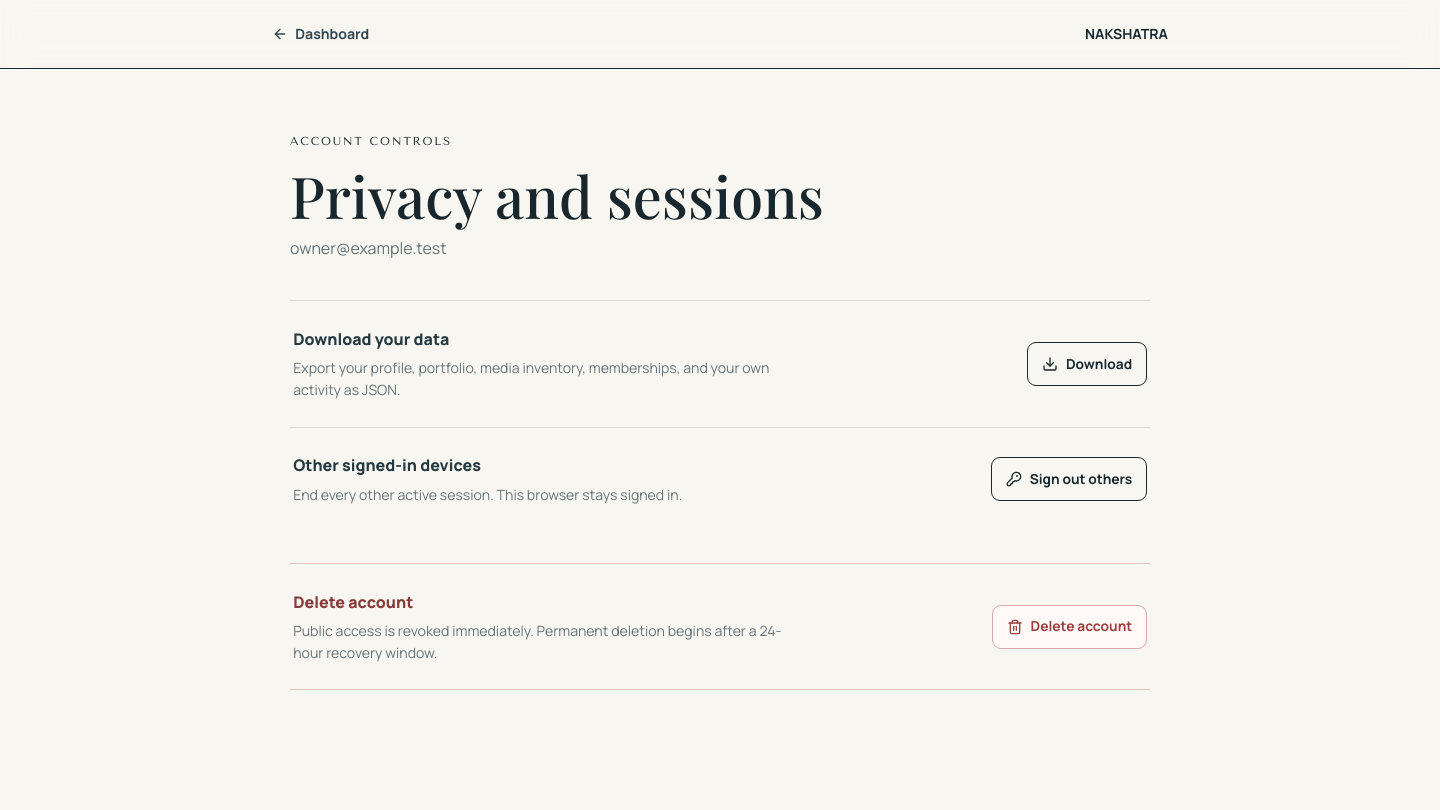
Test: account privacy screen › starts a fresh email sign-in before enabling deletion
Click the button "Delete account" at (1069, 626), box [992,604,1147,648]
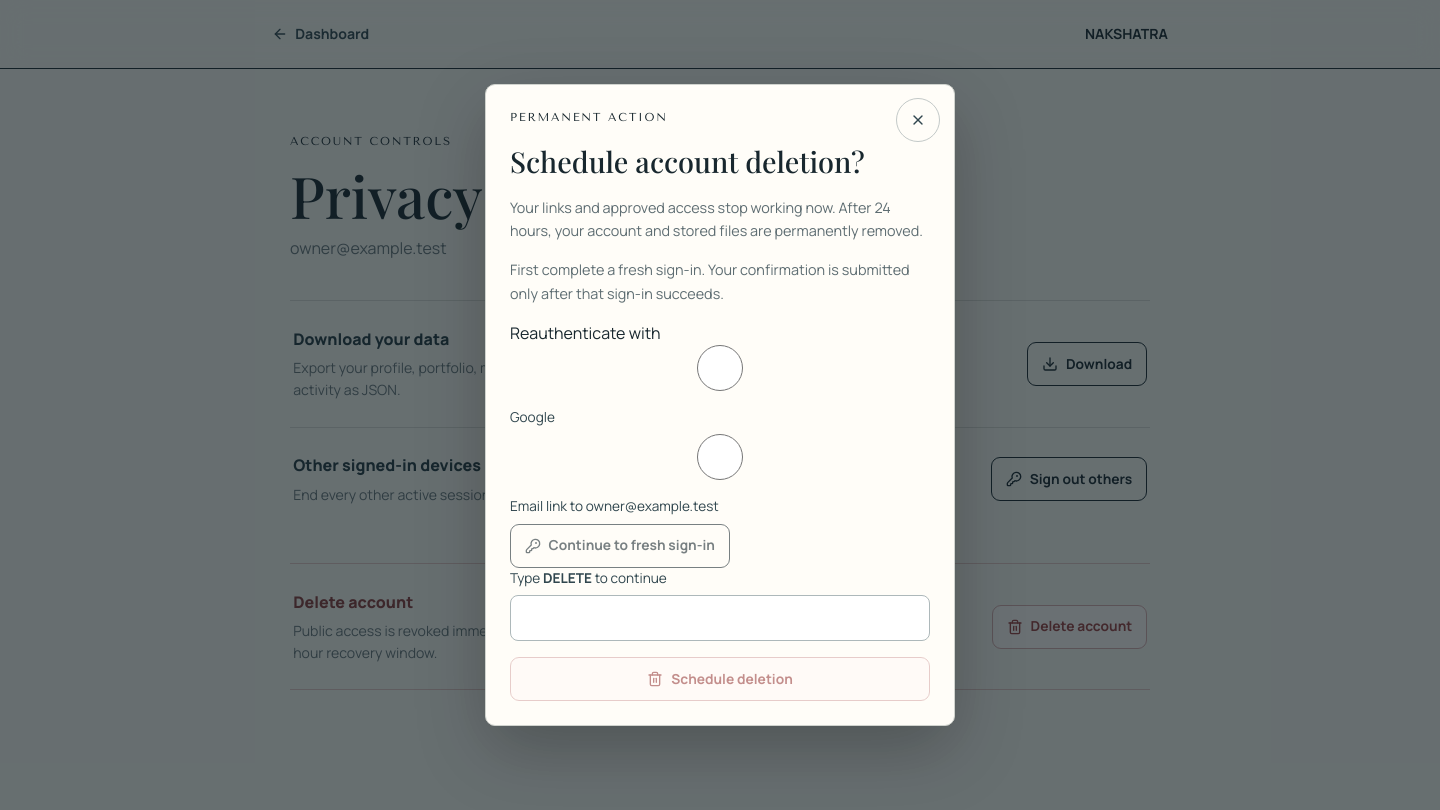
Now the button "Schedule deletion" is disabled, box [510,657,930,701]
Click the radio button labelled "Email link to owner@example.test" at (720, 457), box [510,434,930,480]
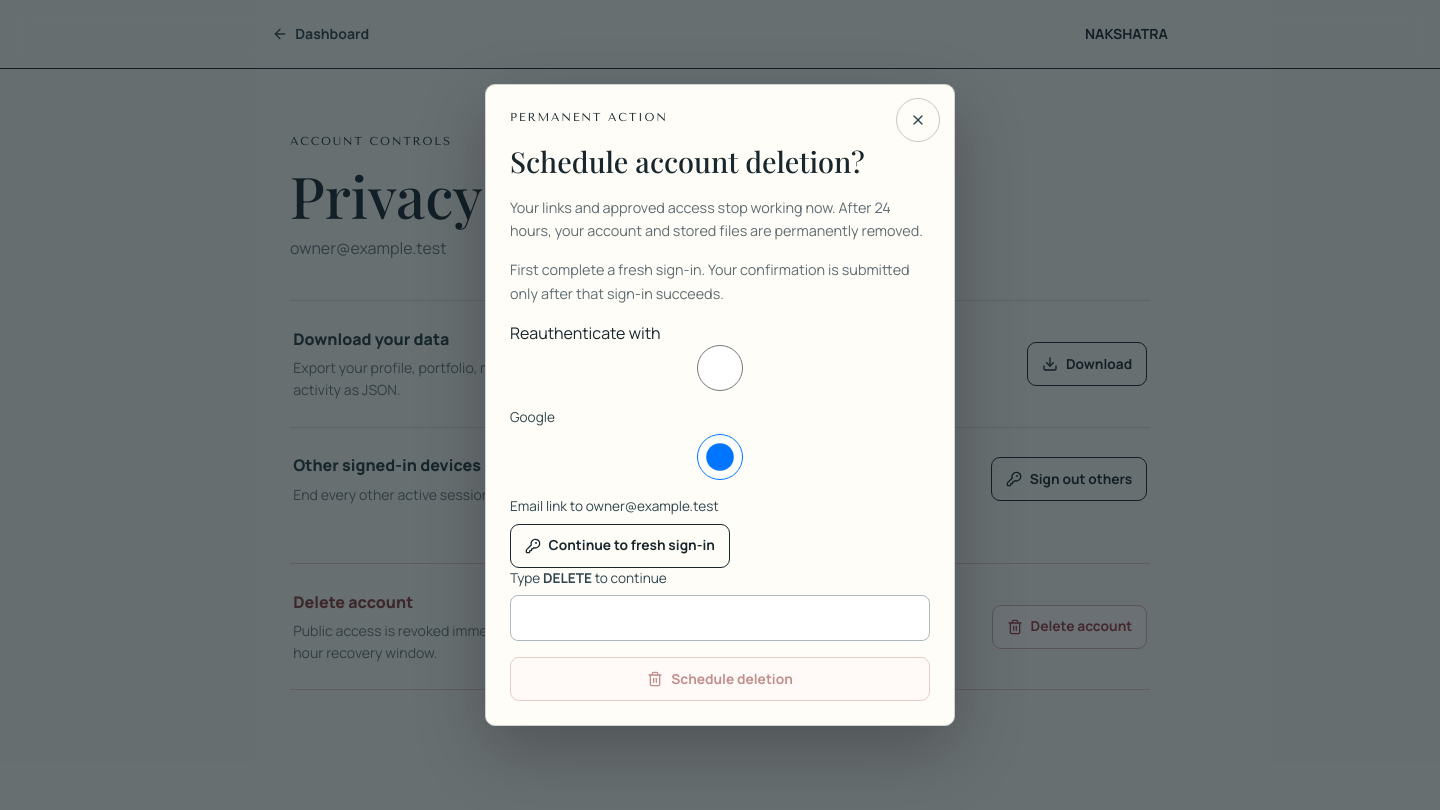
Click the button "Continue to fresh sign-in" at (620, 546), box [510,524,730,568]
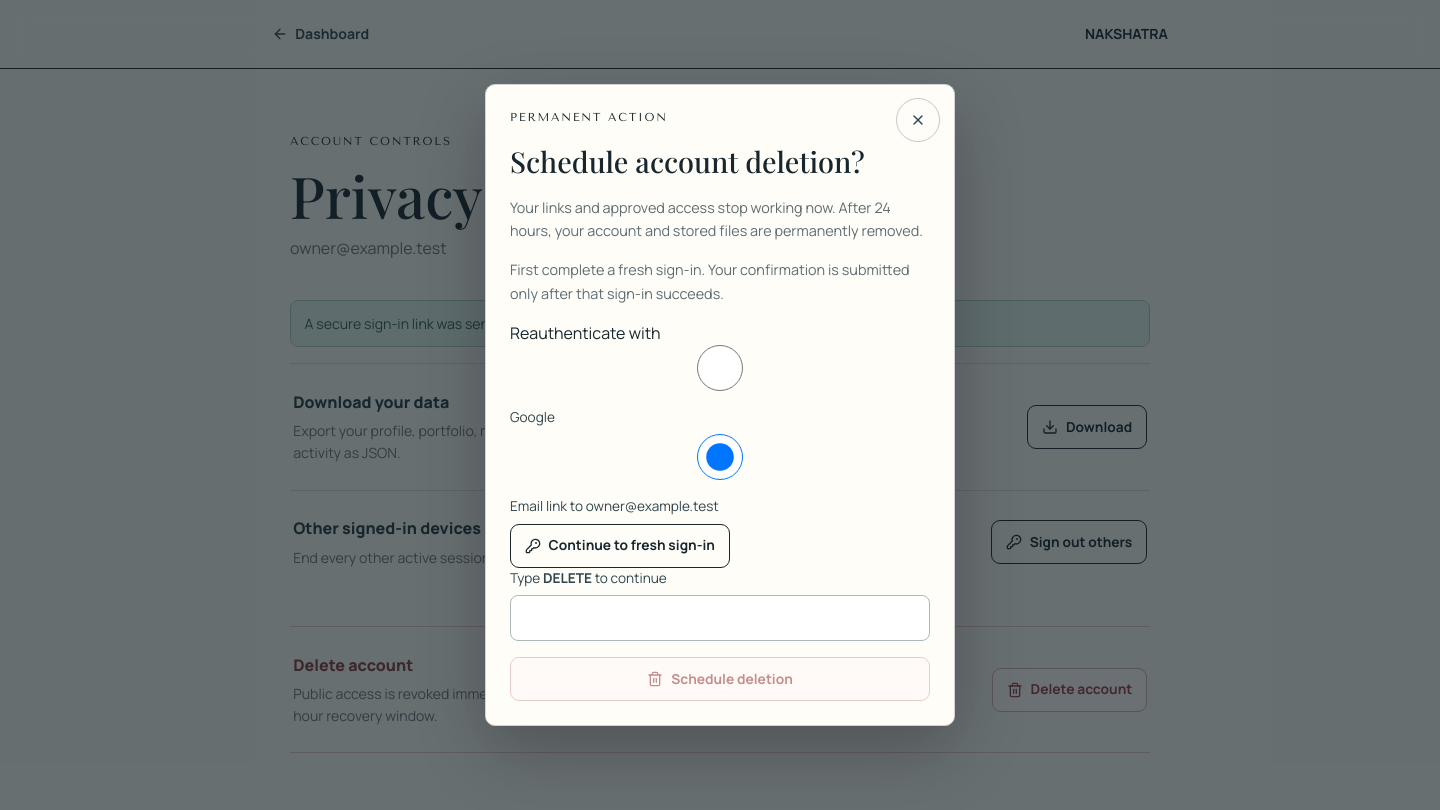
Now the button "Schedule deletion" is disabled, box [510,657,930,701]
Now the text "secure sign-in link was sent" is shown, box [305,314,912,333]
